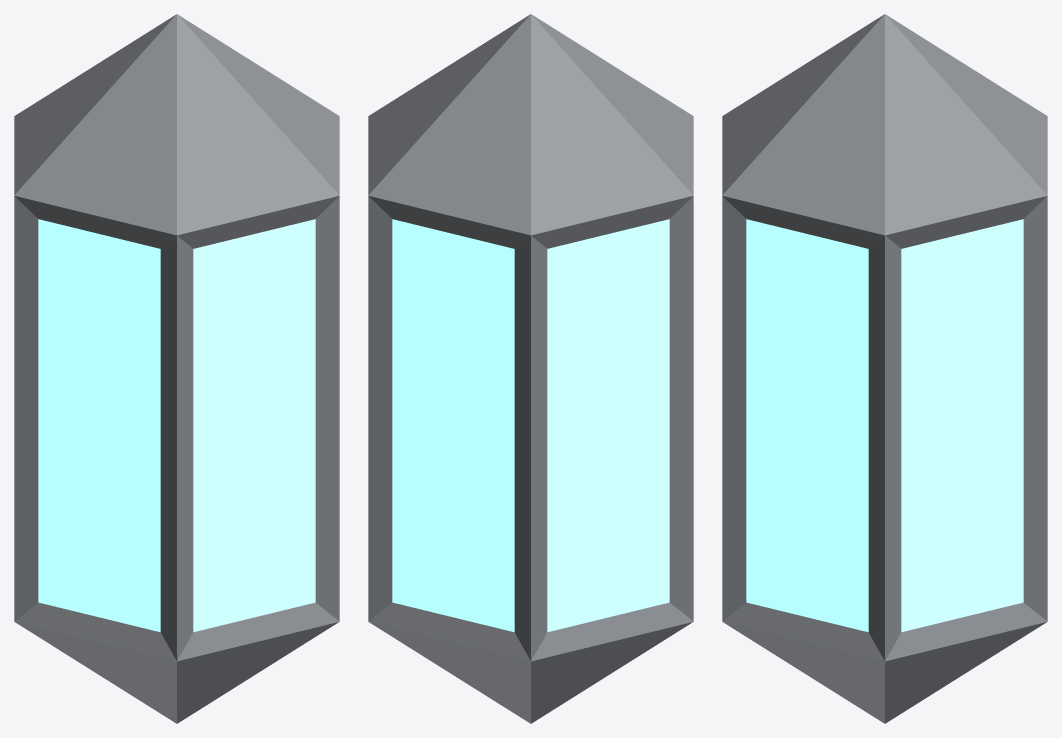
The model's file is FuelRod.fbx.
The picture shows the model from 3 angles, left to right: view 1: azimuth 30°, elevation 25°; view 2: azimuth 150°, elevation 25°; view 3: azimuth 270°, elevation 25°; orthographic projection.
Parts seen in each view (by area): view 1: FuelRod; view 2: FuelRod; view 3: FuelRod.
Part boxes in pixels (x1,y1,x2,y2): FuelRod: (14,14,339,723); FuelRod: (368,14,693,723); FuelRod: (722,14,1047,723).
Bounding box in the file's own units: 0.48 × 1 × 0.4157.
